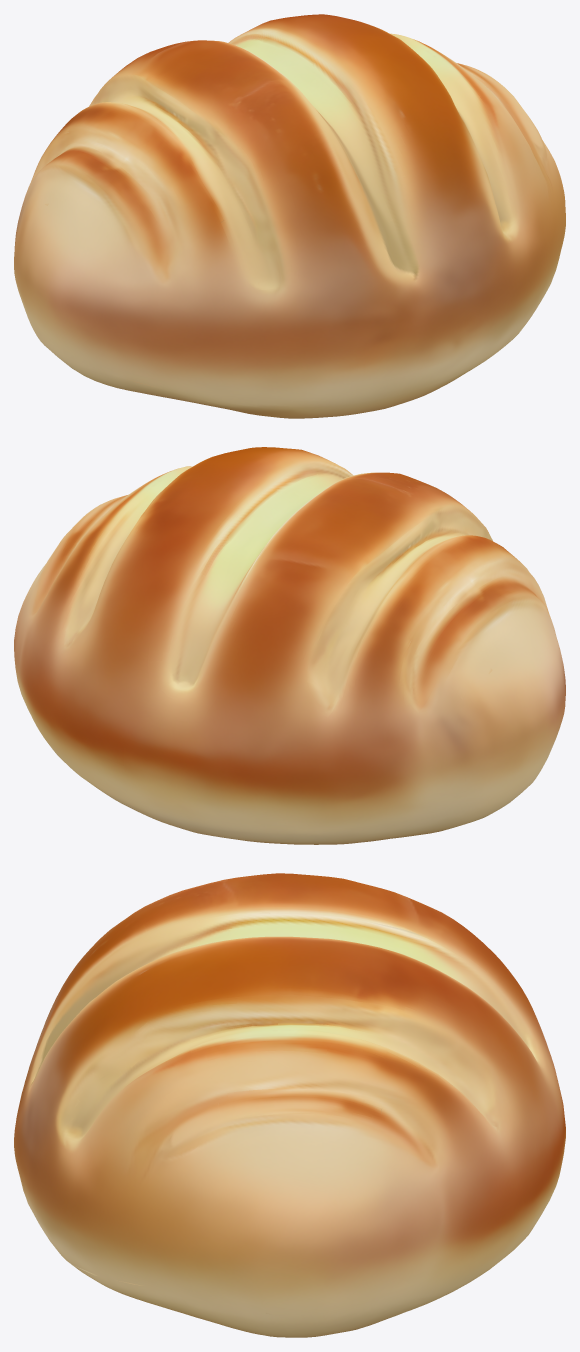
Rendered from lod_basic_shaded.fbx.
3 renders of one model, top to bottom at view 1: azimuth 30°, elevation 25°; view 2: azimuth 150°, elevation 25°; view 3: azimuth 270°, elevation 25°, orthographic. The views are drawn at different scales.
Parts seen in each view (by area): view 1: model_LOD0; view 2: model_LOD0; view 3: model_LOD0.
Part boxes in pixels (x1=…): model_LOD0: x1=14, y1=14, x2=565, y2=418; model_LOD0: x1=14, y1=447, x2=565, y2=844; model_LOD0: x1=14, y1=873, x2=565, y2=1337.
Size of what is drawn, in the model's own units: 190 by 108 by 161.
